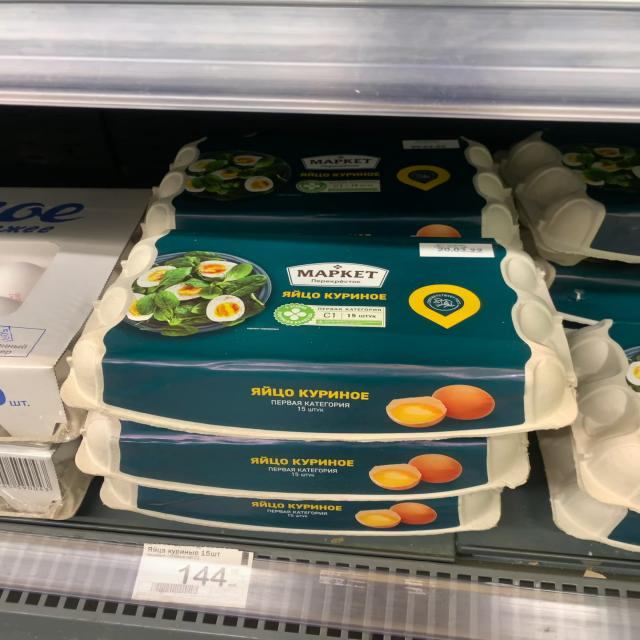egg box: (75, 233, 582, 437), (69, 404, 545, 492), (165, 132, 515, 239), (92, 476, 517, 543)
